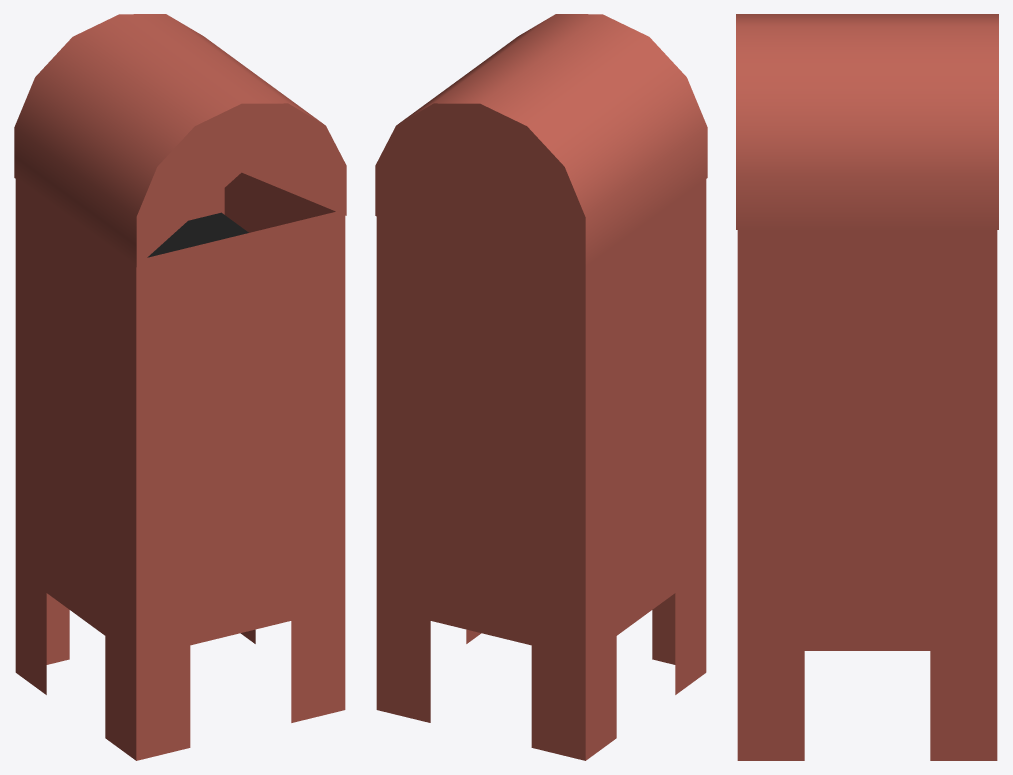
File: RedPostBox.fbx
The picture shows the model from 3 angles, left to right: view 1: azimuth 30°, elevation 25°; view 2: azimuth 150°, elevation 25°; view 3: azimuth 270°, elevation 25°; orthographic projection. The views are drawn at different scales.
Visible parts, largest first — view 1: pPlane2; view 2: pPlane2; view 3: pPlane2.
Part boxes in pixels (<box>): pPlane2: <box>14,14,346,760</box>; pPlane2: <box>375,14,707,760</box>; pPlane2: <box>736,14,998,760</box>.
Size of the model in its own units: 3.9 by 11.21 by 3.93.
